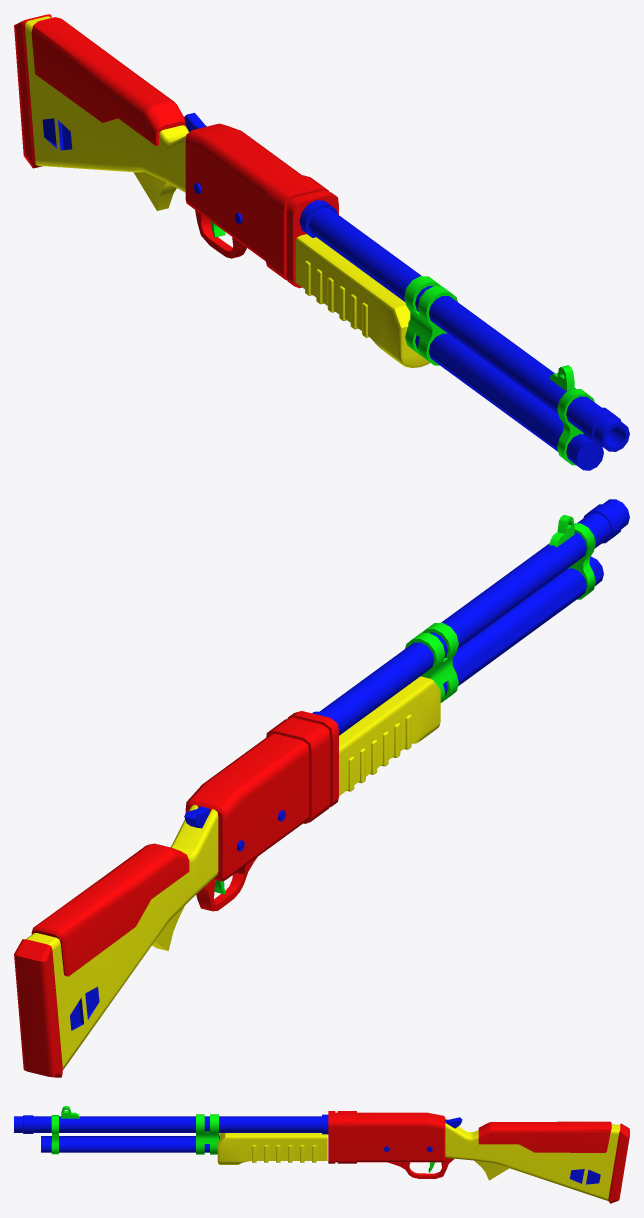
File: BSG.glb
3 views of the same model, one above another, from view 1: azimuth 30°, elevation 25°; view 2: azimuth 150°, elevation 25°; view 3: azimuth 270°, elevation 25° (orthographic). The views are drawn at different scales.
Visible parts, largest first — view 1: Burst; view 2: Burst; view 3: Burst.
Boxes of the visible parts, box(x1,y1,x2,y2) form: Burst: box(14, 14, 629, 470); Burst: box(14, 499, 629, 1077); Burst: box(14, 1106, 629, 1203).
Bounding box in the file's own units: 0.0351 × 0.1287 × 0.77.
